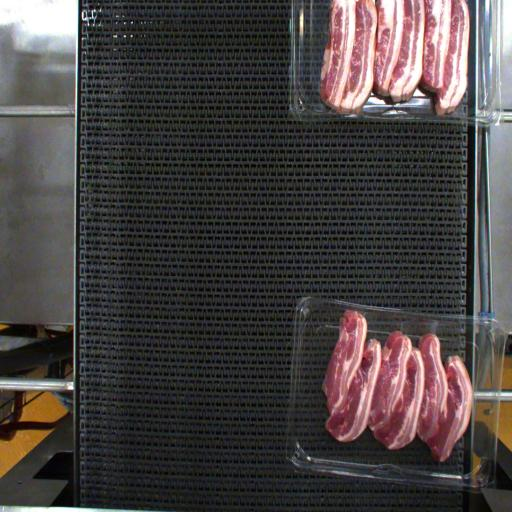packaging-error: (340, 300, 372, 322), (423, 315, 443, 346)
